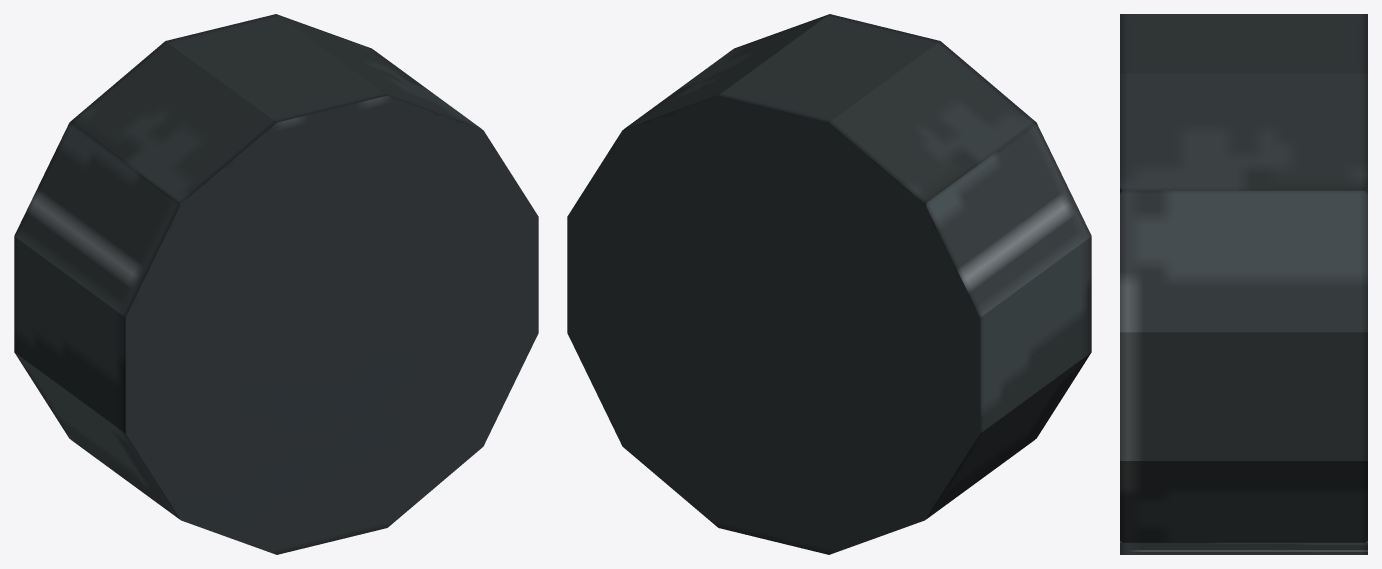
File: qj_pot_carcass.obj
The picture shows the model from 3 angles, left to right: view 1: azimuth 30°, elevation 25°; view 2: azimuth 150°, elevation 25°; view 3: azimuth 270°, elevation 25°; orthographic projection. The views are drawn at different scales.
Visible parts, largest first — view 1: cylinder; view 2: cylinder; view 3: cylinder.
Boxes of the visible parts, x1,y1,x2,y2 form: cylinder: (14,14,538,554); cylinder: (567,14,1091,554); cylinder: (1120,14,1367,554).
Bounding box in the file's own units: 2.14 × 2.14 × 1.
